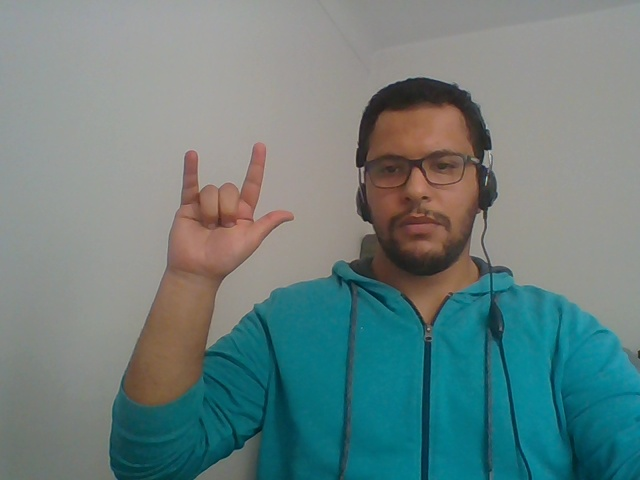iloveyou: (128, 121, 301, 384)
